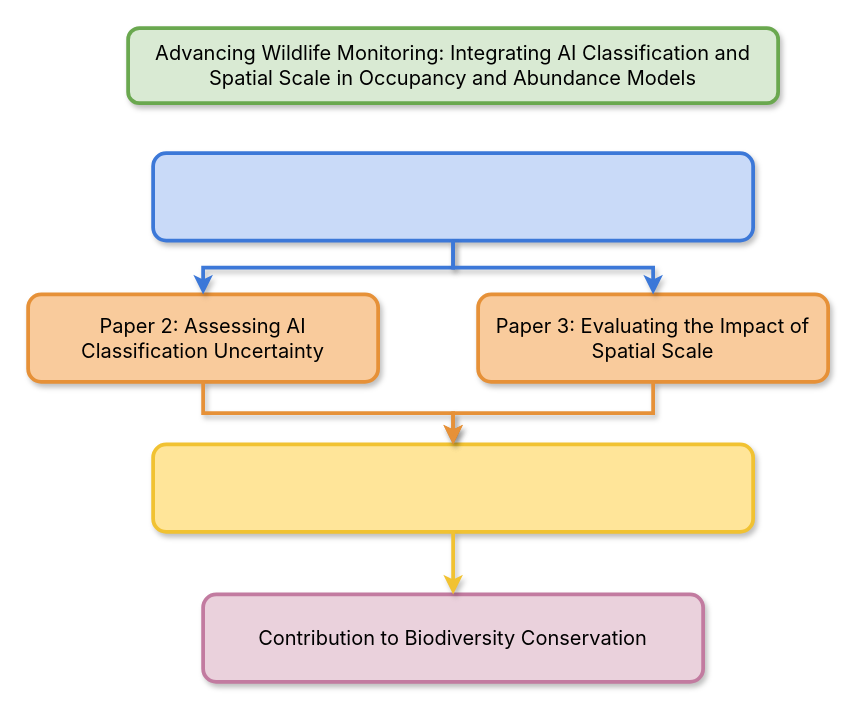
Some shapes in this 859 by 714 pixel diagram are drawn without their labels. Each missing label, with the centre of its shape:
"Paper 1: Review of AI and Spatial Scale in Wildlife Monitoring" belongs at (454,198).
"Paper 4: Linking Occupancy and Abundance Models to Community-Level EBVs" belongs at (454,489).
